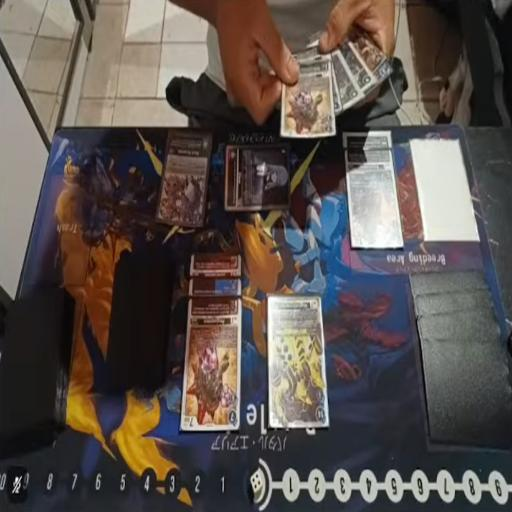card: (179, 298, 244, 432), (266, 292, 328, 429), (154, 130, 210, 231), (344, 149, 400, 248), (224, 140, 292, 214), (279, 58, 333, 140), (351, 21, 392, 83), (341, 34, 377, 99), (331, 45, 364, 111), (342, 129, 393, 157), (189, 252, 242, 276), (190, 277, 244, 299)
